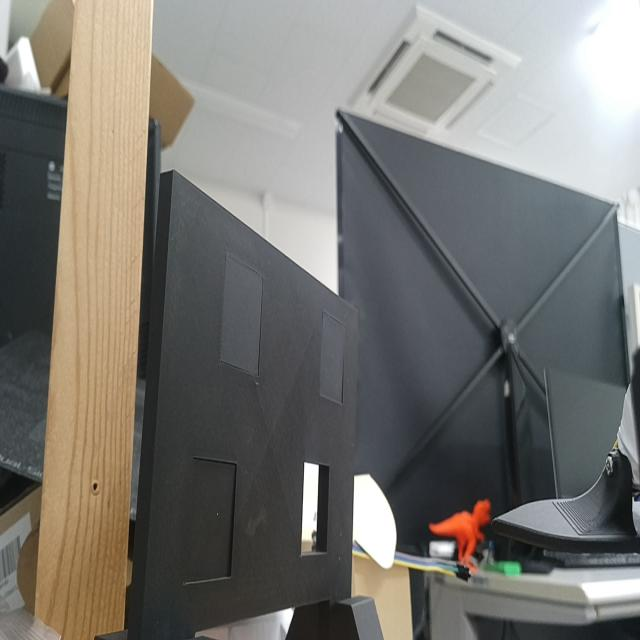Obstacle: (302, 462, 329, 556)
Wall: (140, 170, 358, 639)
